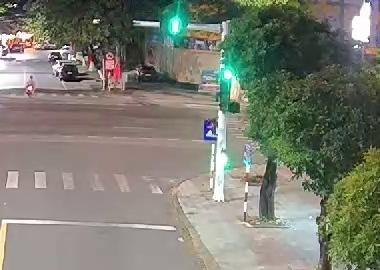green_light: (160, 15, 183, 37), (220, 68, 234, 83)
stop_line: (3, 219, 175, 230)
